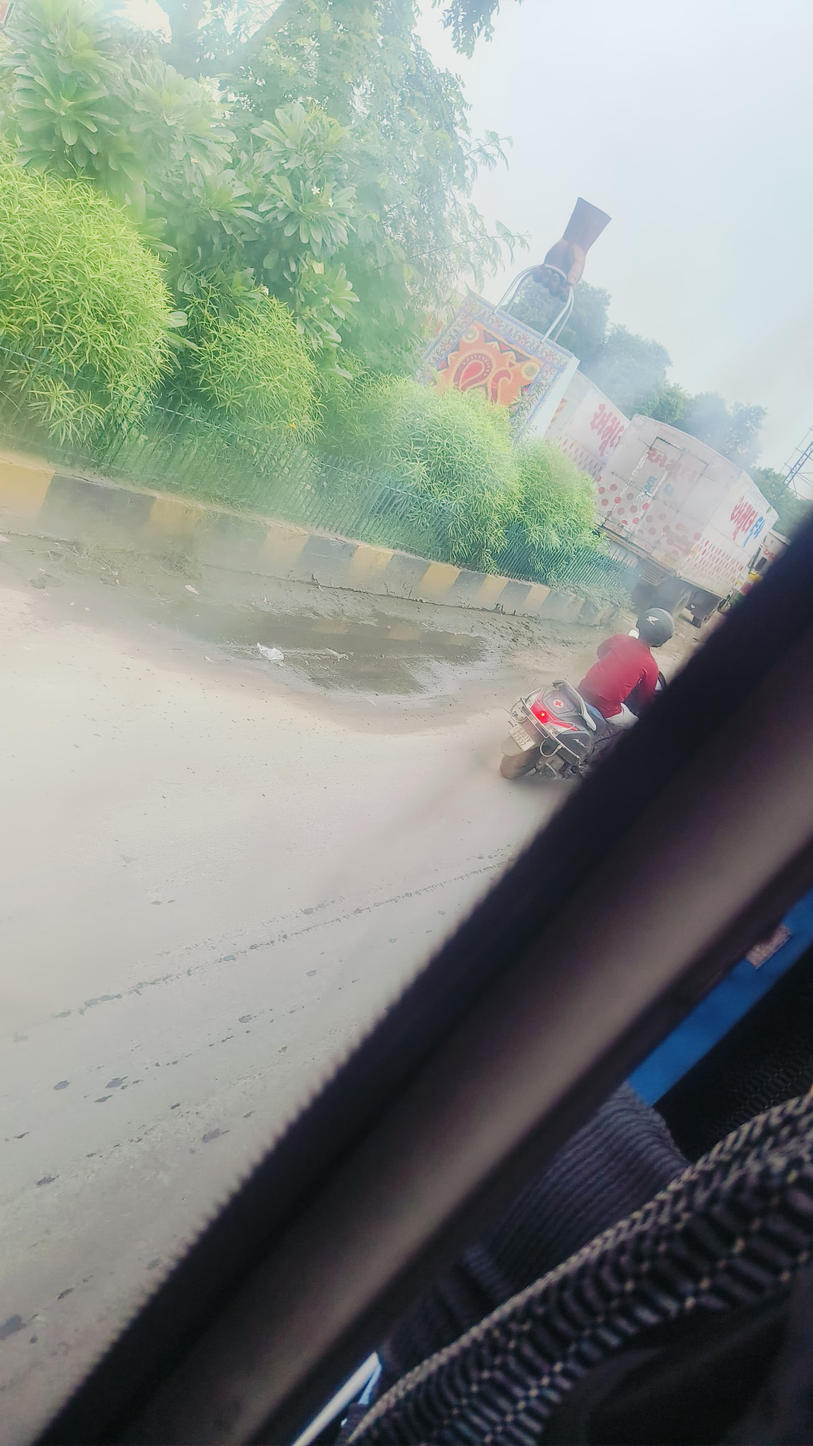BikeWithRider: (482, 597, 688, 802)
Helmet: (628, 601, 680, 653)
